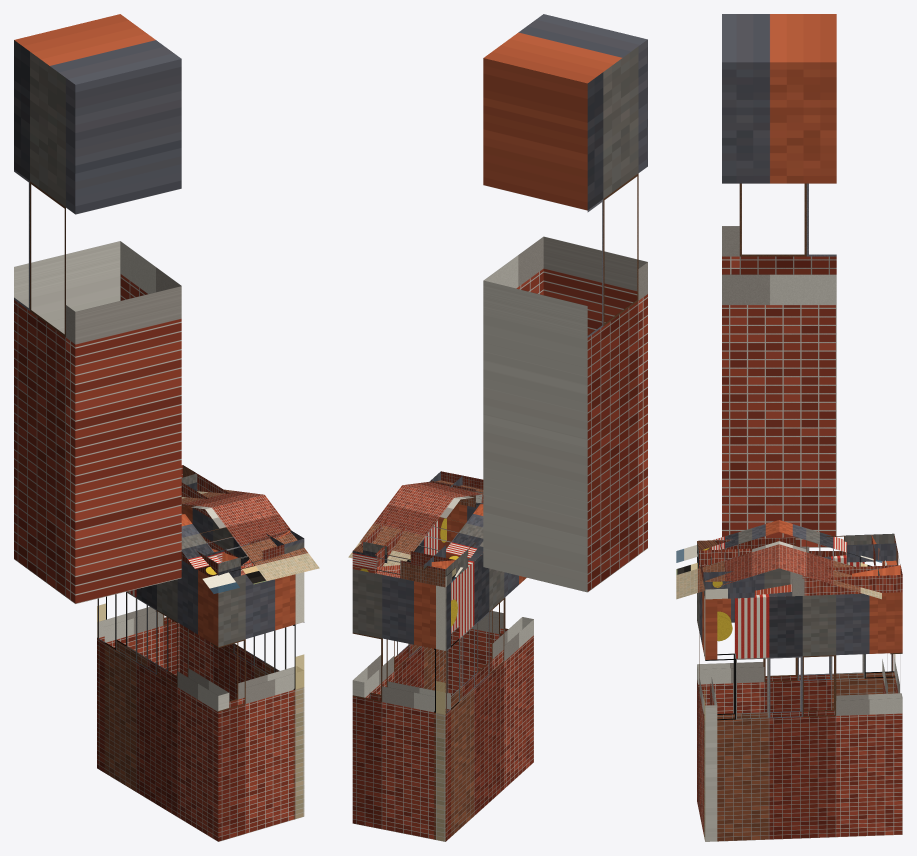
The picture shows the model from 3 angles, left to right: view 1: azimuth 30°, elevation 25°; view 2: azimuth 150°, elevation 25°; view 3: azimuth 270°, elevation 25°; orthographic projection. The views are drawn at different scales.
Visible parts, largest first — view 1: 238625177__chimney_0_xb, 238625177__wall_3_xb, 238625177__wall_0_xb, 238625177__wall_1_xb, 238625177_roof_-1_xb, 238625177__wall_2_xb, 238625177__cornice_0, 238625177__cornice_1, 238625177_roof_1_xb; view 2: 238625177__chimney_0_xb, 238625177__wall_2_xb, 238625177__wall_3_xb, 238625177_roof_1_xb, 238625177__wall_1_xb, 238625177__wall_0_xb, 238625177__cornice_2, 238625177__cornice_0, 238625177_roof_-1_xb, 238625177__cornice_1, 238625177__cornice_3; view 3: 238625177__chimney_0_xb, 238625177__wall_1_xb, 238625177__wall_3_xb, 238625177__wall_0_xb, 238625177_roof_-1_xb, 238625177__cornice_1, 238625177_roof_1_xb, 238625177__cornice_3, 238625177__cornice_0.
Part boxes in pixels (x1,y1,x2,y2): 238625177__chimney_0_xb: (14, 14, 181, 603); 238625177__wall_3_xb: (97, 560, 229, 841); 238625177__wall_0_xb: (211, 574, 303, 841); 238625177__wall_1_xb: (172, 504, 304, 819); 238625177_roof_-1_xb: (181, 494, 319, 593); 238625177__wall_2_xb: (97, 598, 179, 772); 238625177__cornice_0: (204, 530, 290, 577); 238625177__cornice_1: (181, 465, 304, 553); 238625177_roof_1_xb: (181, 489, 263, 514); 238625177__chimney_0_xb: (483, 14, 647, 592); 238625177__wall_2_xb: (352, 569, 450, 841); 238625177__wall_3_xb: (434, 541, 533, 841); 238625177_roof_1_xb: (348, 485, 483, 582); 238625177__wall_1_xb: (352, 518, 446, 698); 238625177__wall_0_xb: (439, 502, 508, 695); 238625177__cornice_2: (352, 541, 455, 587); 238625177__cornice_0: (430, 471, 483, 507); 238625177_roof_-1_xb: (403, 480, 483, 504); 238625177__cornice_1: (352, 471, 462, 573); 238625177__cornice_3: (424, 542, 480, 586); 238625177__chimney_0_xb: (722, 14, 836, 547); 238625177__wall_1_xb: (704, 592, 902, 841); 238625177__wall_3_xb: (697, 555, 895, 713); 238625177__wall_0_xb: (697, 560, 717, 841); 238625177_roof_-1_xb: (676, 520, 779, 599); 238625177__cornice_1: (703, 565, 902, 598); 238625177_roof_1_xb: (779, 520, 881, 599); 238625177__cornice_3: (699, 533, 896, 567); 238625177__cornice_0: (697, 540, 727, 599).
Size of the model in its own units: 0.3104 by 1.05 by 0.296.
1 material, 1 textured.
